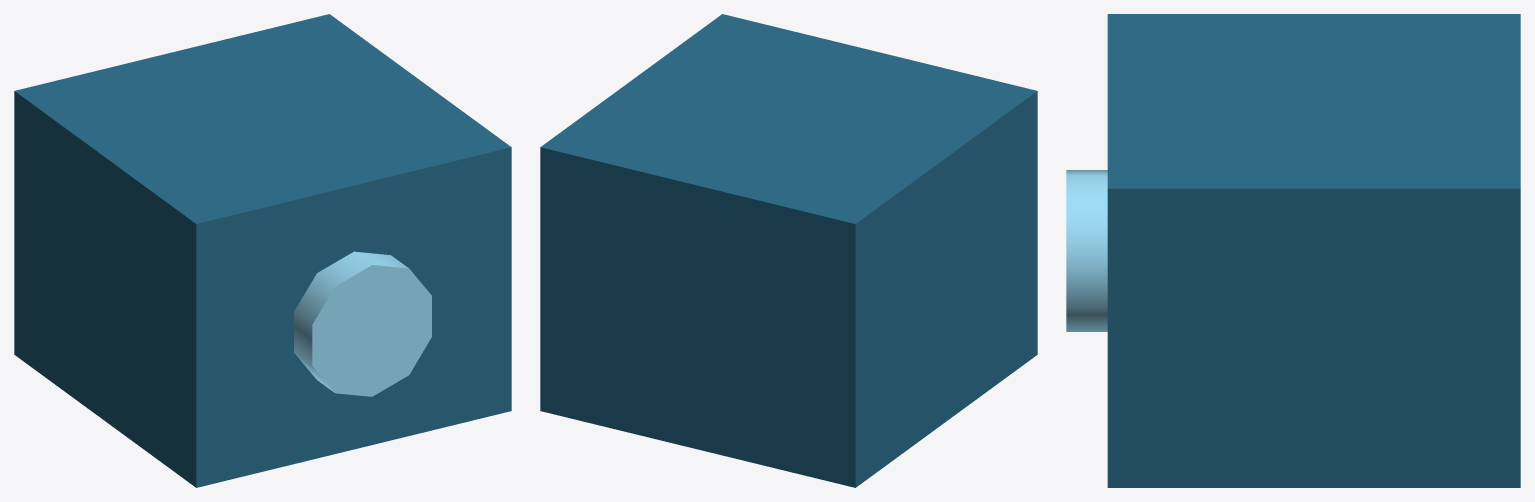
3 views of the same model, side by side, from view 1: azimuth 30°, elevation 25°; view 2: azimuth 150°, elevation 25°; view 3: azimuth 270°, elevation 25° (orthographic). The views are drawn at different scales.
Visible parts, largest first — view 1: sensor, port; view 2: sensor; view 3: sensor, port.
Part boxes in pixels (bbox=[...]): sensor: bbox=[14, 14, 511, 487]; port: bbox=[294, 251, 431, 396]; sensor: bbox=[540, 14, 1037, 487]; sensor: bbox=[1107, 14, 1520, 487]; port: bbox=[1066, 170, 1107, 331].
Bounding box in the file's own units: 0.1 × 0.08 × 0.11.
